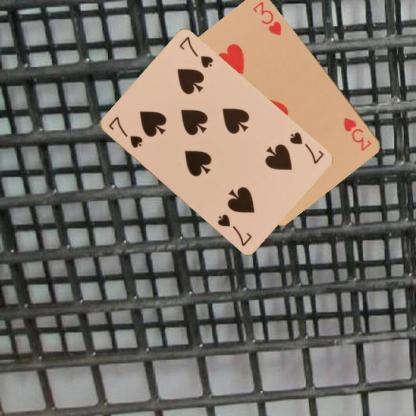3h: (340, 116, 374, 152)
7s: (105, 113, 144, 150), (286, 130, 325, 166)
